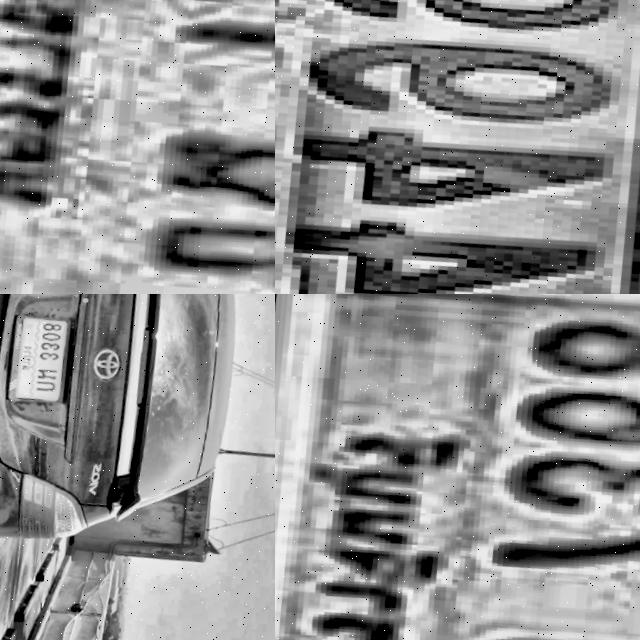license-plate: (275, 294, 640, 640), (275, 0, 640, 294), (0, 0, 275, 294), (0, 314, 72, 413)
